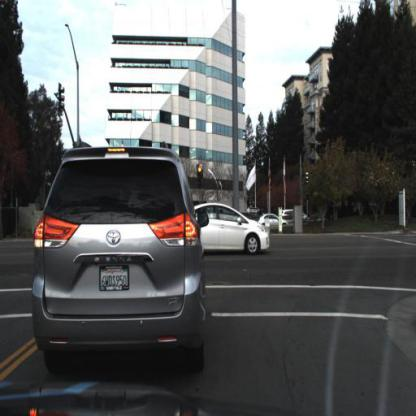car: (32, 140, 207, 376), (191, 201, 280, 258), (259, 210, 291, 228)
trafficLight-Red: (196, 162, 204, 189)
